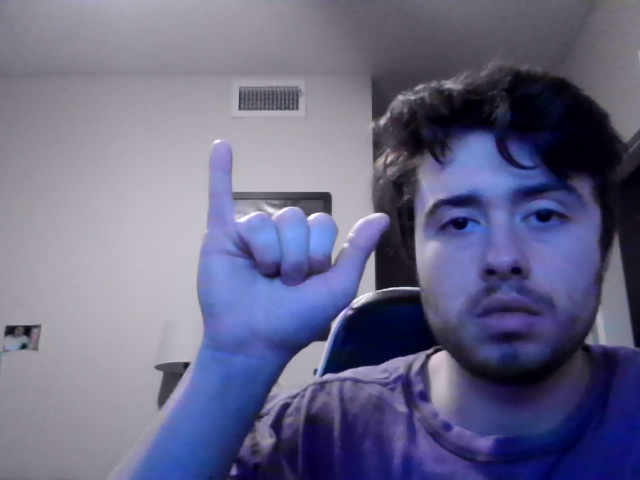y: (196, 139, 391, 383)
